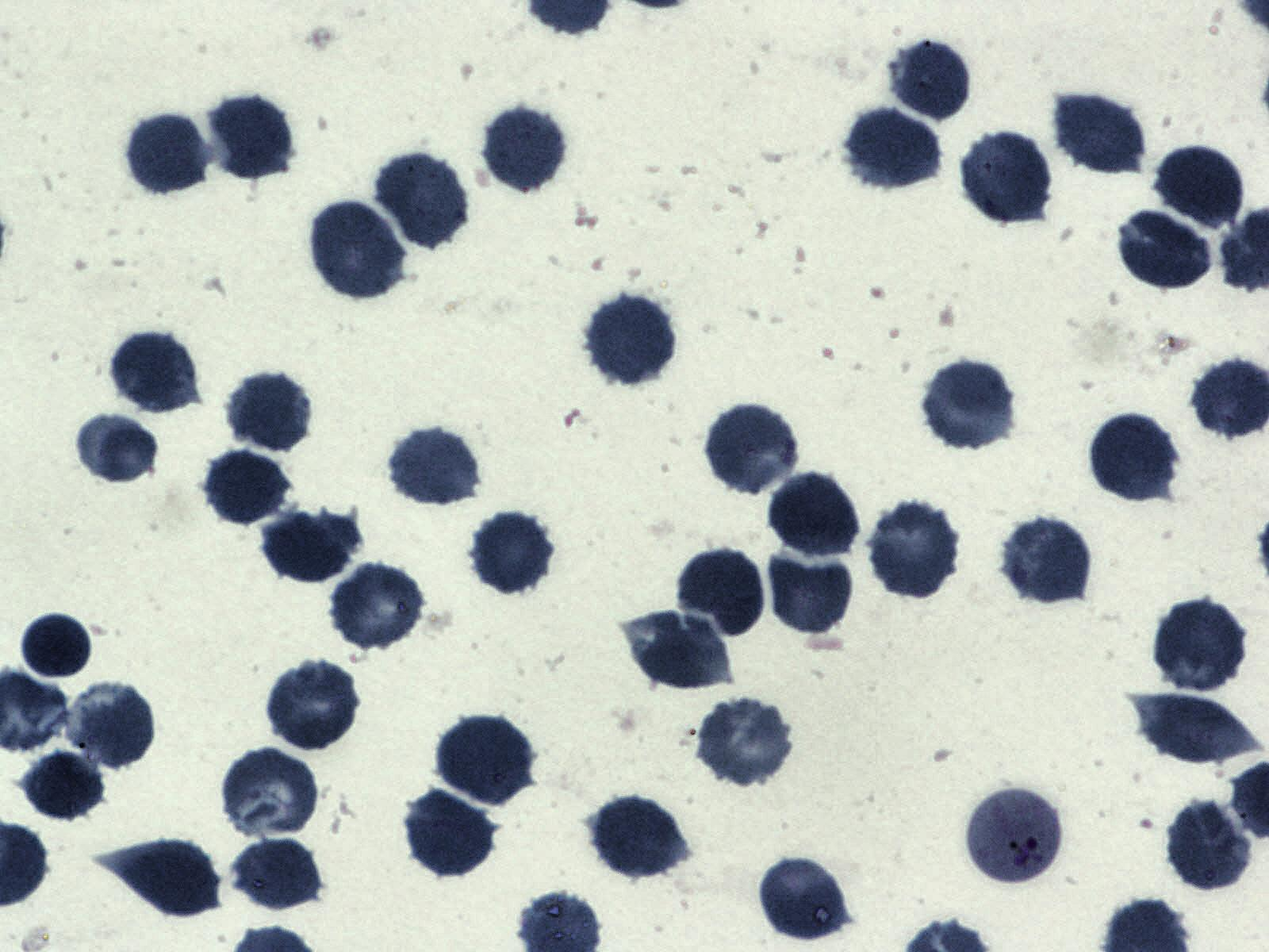Infected: (965, 785, 1063, 886)
Uninfected: (1136, 690, 1263, 766), (97, 839, 219, 917), (309, 201, 405, 299), (220, 747, 323, 838), (867, 498, 959, 599), (695, 695, 793, 788), (374, 152, 468, 248), (704, 402, 798, 497), (1154, 599, 1248, 692), (922, 359, 1017, 451), (328, 562, 425, 651), (266, 660, 361, 750), (620, 612, 730, 689), (961, 131, 1052, 223), (438, 716, 533, 803), (587, 294, 677, 383), (1088, 413, 1179, 501), (758, 856, 850, 942), (847, 107, 943, 189), (1003, 516, 1093, 603), (769, 472, 859, 558), (1167, 801, 1252, 892), (678, 549, 766, 636), (67, 683, 156, 769), (210, 92, 295, 182), (592, 797, 686, 878), (406, 792, 496, 875), (769, 549, 855, 635), (1156, 144, 1245, 227), (199, 446, 291, 526), (1119, 209, 1212, 288), (481, 105, 565, 192), (259, 509, 359, 582), (110, 331, 197, 413), (1056, 93, 1145, 173), (389, 428, 481, 505), (231, 836, 321, 912), (126, 113, 210, 194), (227, 373, 312, 453), (75, 410, 162, 487), (470, 512, 552, 593), (891, 40, 973, 121), (22, 750, 104, 821), (22, 615, 95, 681)
